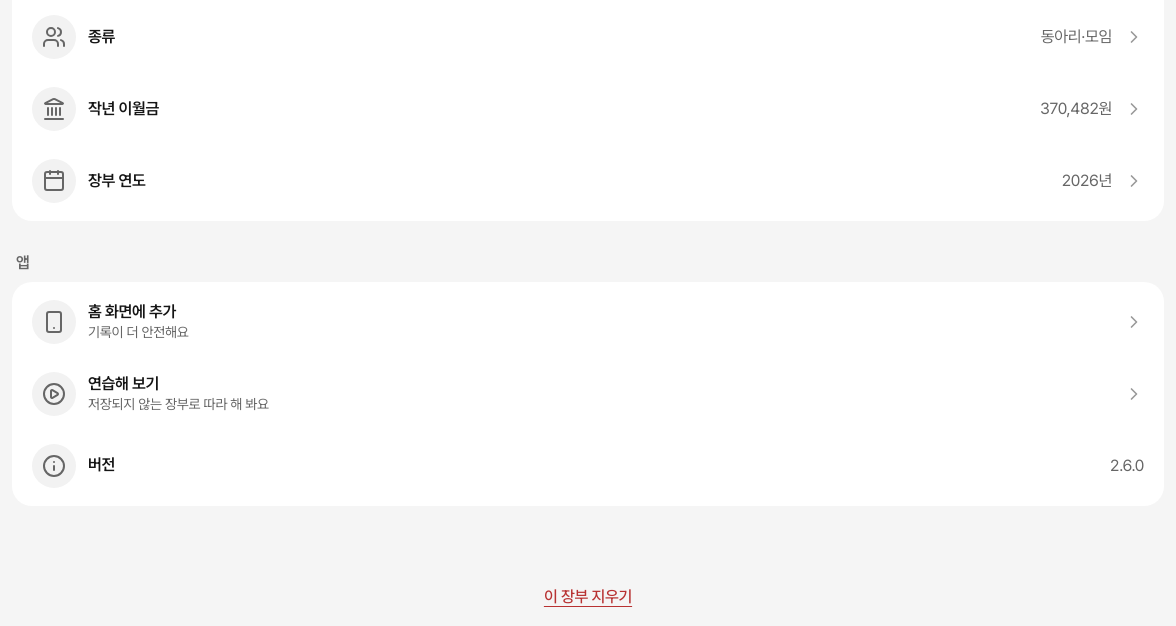
Test: SPEC-001·002 설정 화면 › SPEC-002 홈 화면에 추가 줄 › 브라우저가 설치를 제안했으면 줄을 누를 때 브라우저 설치 창을 바로 열고(기본 설치 띠는 막음), 설치하면 줄을 숨긴다
(page scrolled)
What coordinates should you click on to do the following:
click the button "홈 화면에 추가 기록이 더 안전해요"
I would click on:
 (54, 322)
Its box is [12,286,1164,358].
(page scrolled)
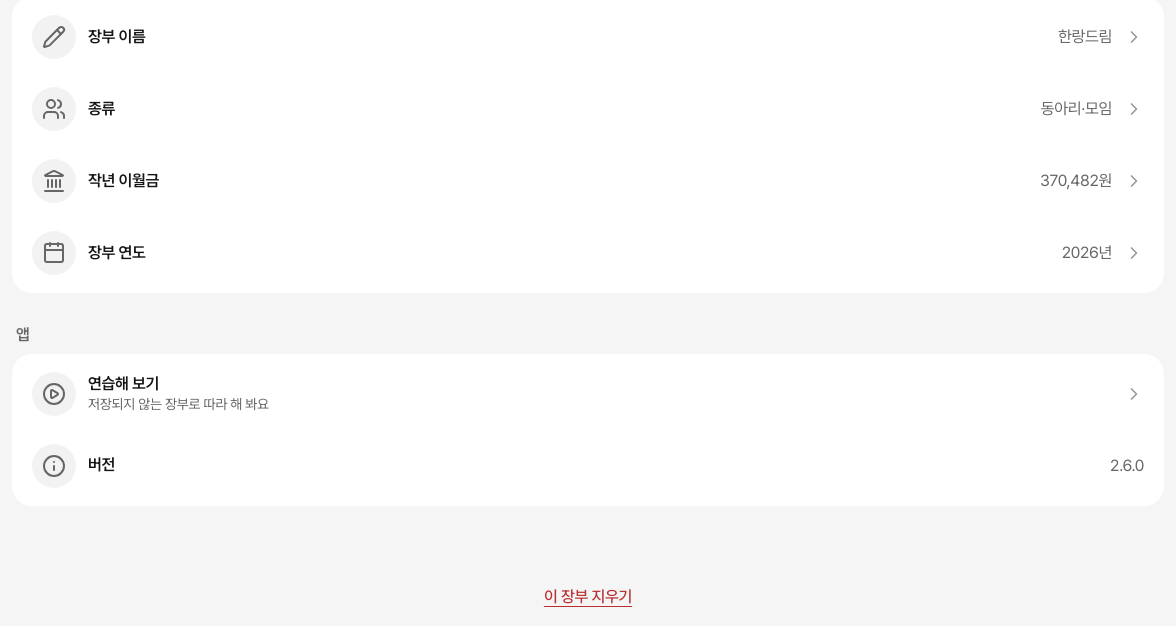
Now the button "홈 화면에 추가" is gone
